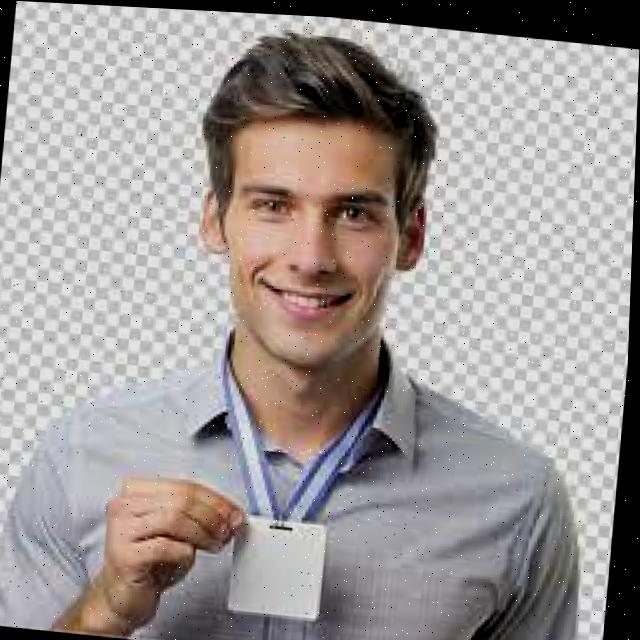id_card: (200, 357, 380, 631)
